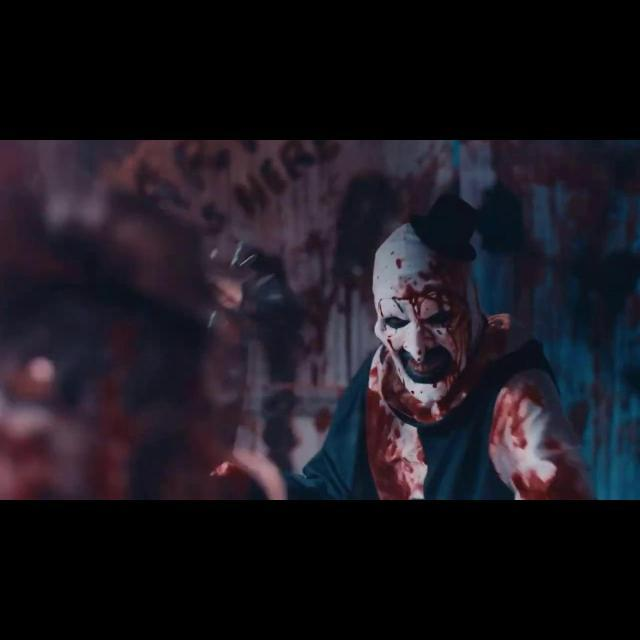blood: (363, 196, 597, 500), (0, 264, 252, 500), (492, 140, 640, 492), (291, 170, 436, 352), (313, 406, 333, 435)
